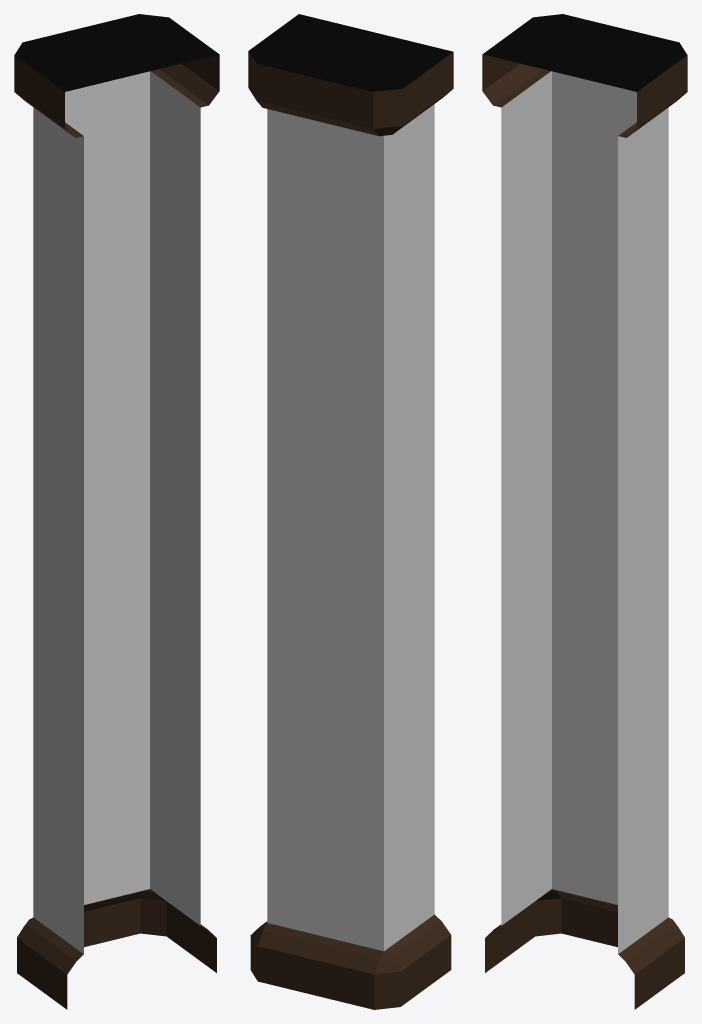
The model's file is Wall_02_Pillar_half.fbx.
3 renders of one model, left to right at view 1: azimuth 30°, elevation 25°; view 2: azimuth 150°, elevation 25°; view 3: azimuth 330°, elevation 25°, orthographic.
Visible parts, largest first — view 1: Cube.146; view 2: Cube.146; view 3: Cube.146.
Boxes of the visible parts, x1,y1,x2,y2 form: Cube.146: (14, 14, 219, 1009); Cube.146: (248, 14, 453, 1009); Cube.146: (482, 14, 687, 1009).
Size of the model in its own units: 0.3651 by 0.5303 by 3.01.
